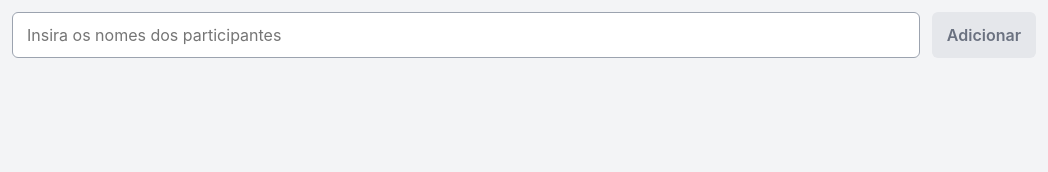
Test: o comportamento do formulário › nomes duplicados não podem ser adicionados na lista
Type "Ana Catarina" into the field with placeholder "Insira os nomes dos participantes" at (466, 35), box [12, 12, 920, 58]
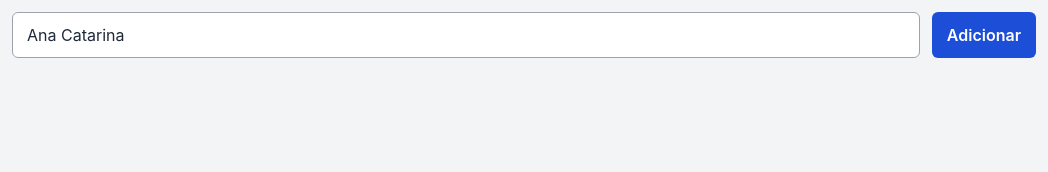
Click the button at (984, 35), box [932, 12, 1036, 58]
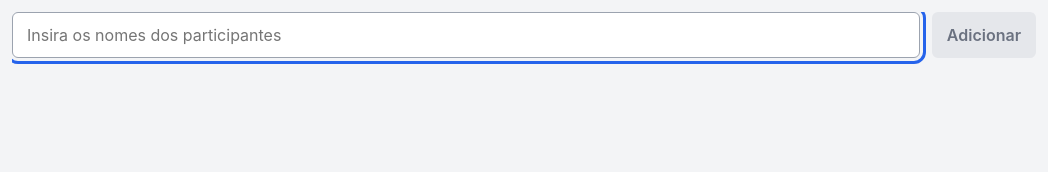
Type "Ana Catarina" into the field with placeholder "Insira os nomes dos participantes" at (466, 35), box [12, 12, 920, 58]
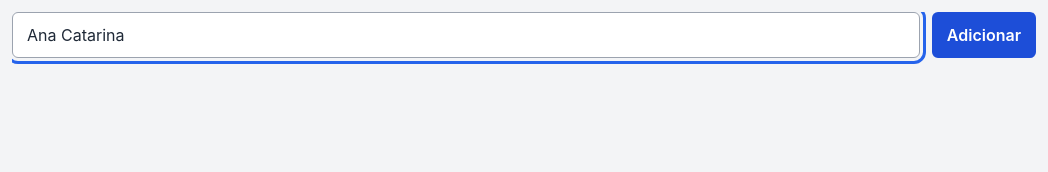
Click the button at (984, 35), box [932, 12, 1036, 58]
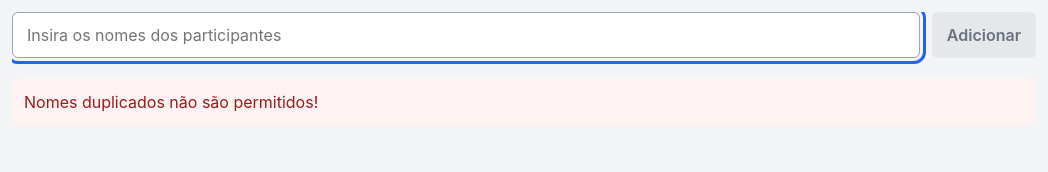
Expected: the message reads "Nomes duplicados não são permitidos!", [24, 92, 318, 112]
